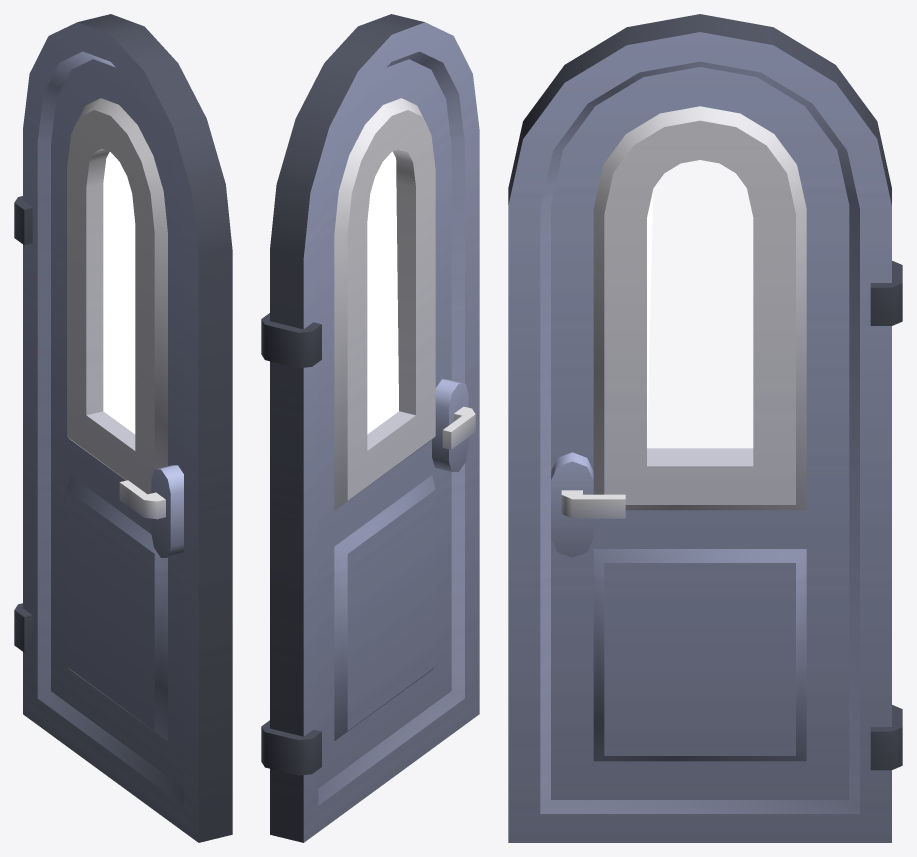
File: Rounded Door.glb
3 views of the same model, side by side, from view 1: azimuth 30°, elevation 25°; view 2: azimuth 150°, elevation 25°; view 3: azimuth 270°, elevation 25° (orthographic). The views are drawn at different scales.
Parts seen in each view (by area): view 1: door, (%ignore), handle; view 2: door, (%ignore), handle; view 3: door, handle, (%ignore).
Part boxes in pixels (<box>): door: <box>14,14,232,842</box>; (%ignore): <box>103,152,135,434</box>; handle: <box>119,480,165,519</box>; door: <box>261,14,479,842</box>; (%ignore): <box>367,151,398,434</box>; handle: <box>442,406,475,449</box>; door: <box>508,14,902,842</box>; handle: <box>561,490,625,518</box>; (%ignore): <box>647,190,653,446</box>.
Bounding box in the file's own units: 0.25 × 2.1 × 0.925.
2 materials, 1 textured.
